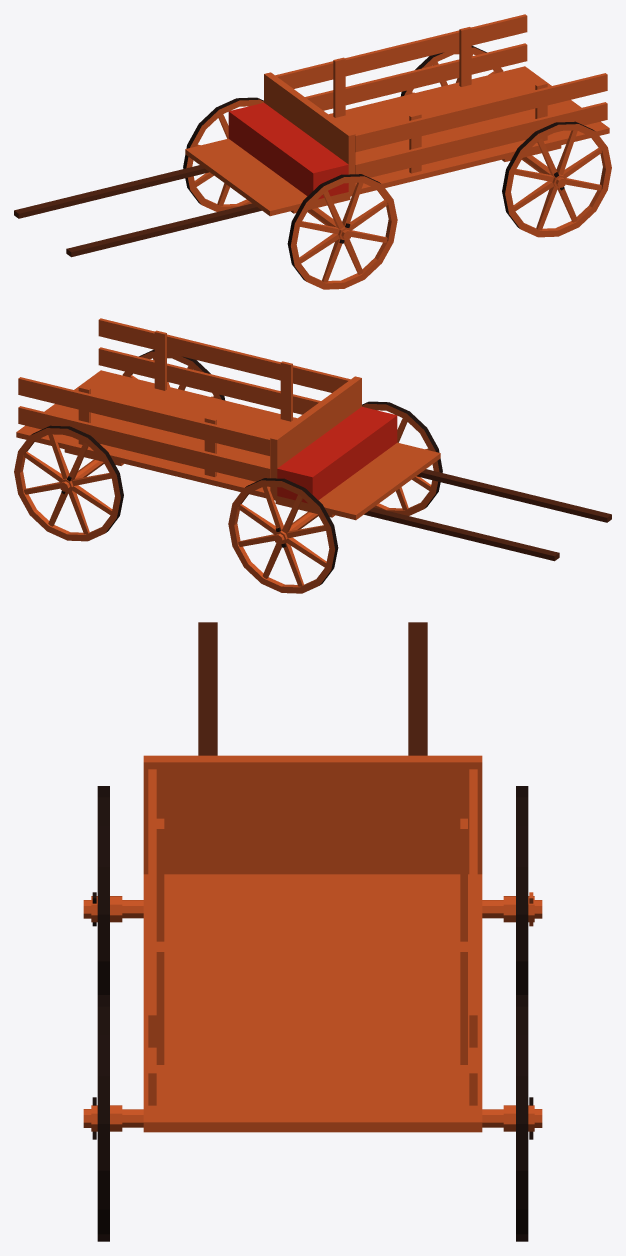
File: wagon.obj
The picture shows the model from 3 angles, top to bottom: view 1: azimuth 30°, elevation 25°; view 2: azimuth 150°, elevation 25°; view 3: azimuth 270°, elevation 25°; orthographic projection. The views are drawn at different scales.
Parts seen in each view (by area): view 1: Wagon_Circle.006; view 2: Wagon_Circle.006; view 3: Wagon_Circle.006.
Part boxes in pixels (x1,y1,x2,y2): Wagon_Circle.006: (14,14,611,289); Wagon_Circle.006: (14,318,611,593); Wagon_Circle.006: (83,622,542,1241).
Size of the model in its own units: 33.14 by 8.52 by 12.55.
